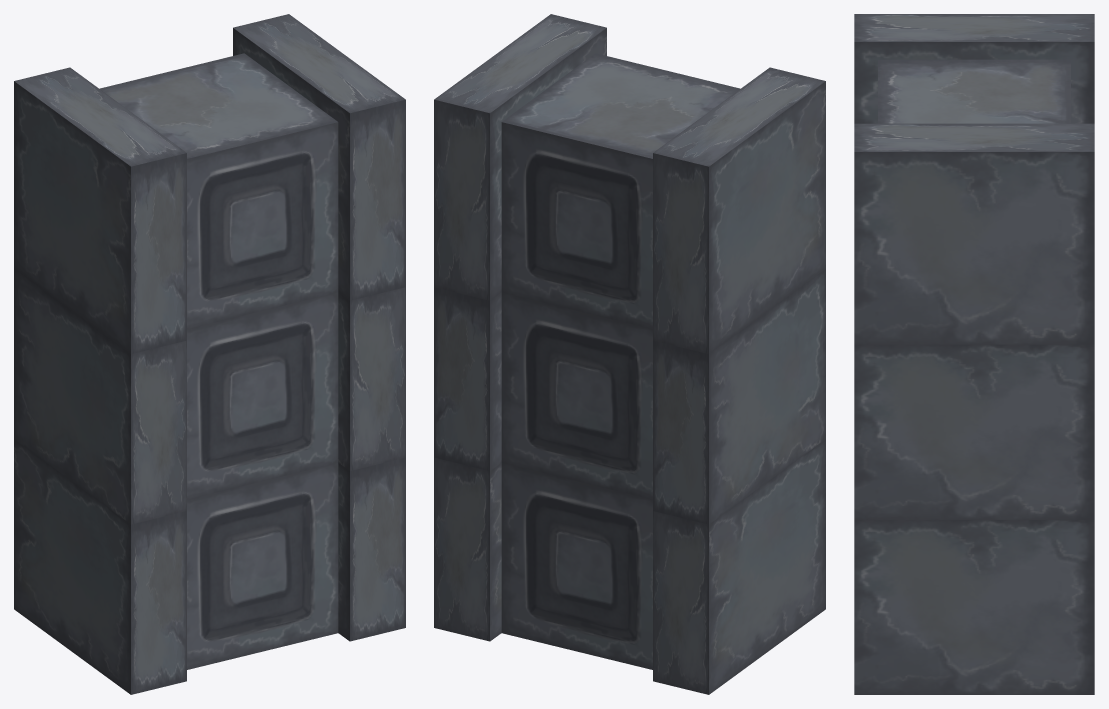
The model's file is Castle Deco Pilar 3.fbx.
3 renders of one model, left to right at view 1: azimuth 30°, elevation 25°; view 2: azimuth 150°, elevation 25°; view 3: azimuth 270°, elevation 25°, orthographic. The views are drawn at different scales.
Parts seen in each view (by area): view 1: Castle Deco Pilar 3; view 2: Castle Deco Pilar 3; view 3: Castle Deco Pilar 3.
Part boxes in pixels (box(x1,y1,x2,y2)): Castle Deco Pilar 3: box(14, 14, 405, 694); Castle Deco Pilar 3: box(434, 14, 825, 694); Castle Deco Pilar 3: box(854, 14, 1094, 694).
Size of the model in its own units: 1.27 by 2.33 by 0.9335.
